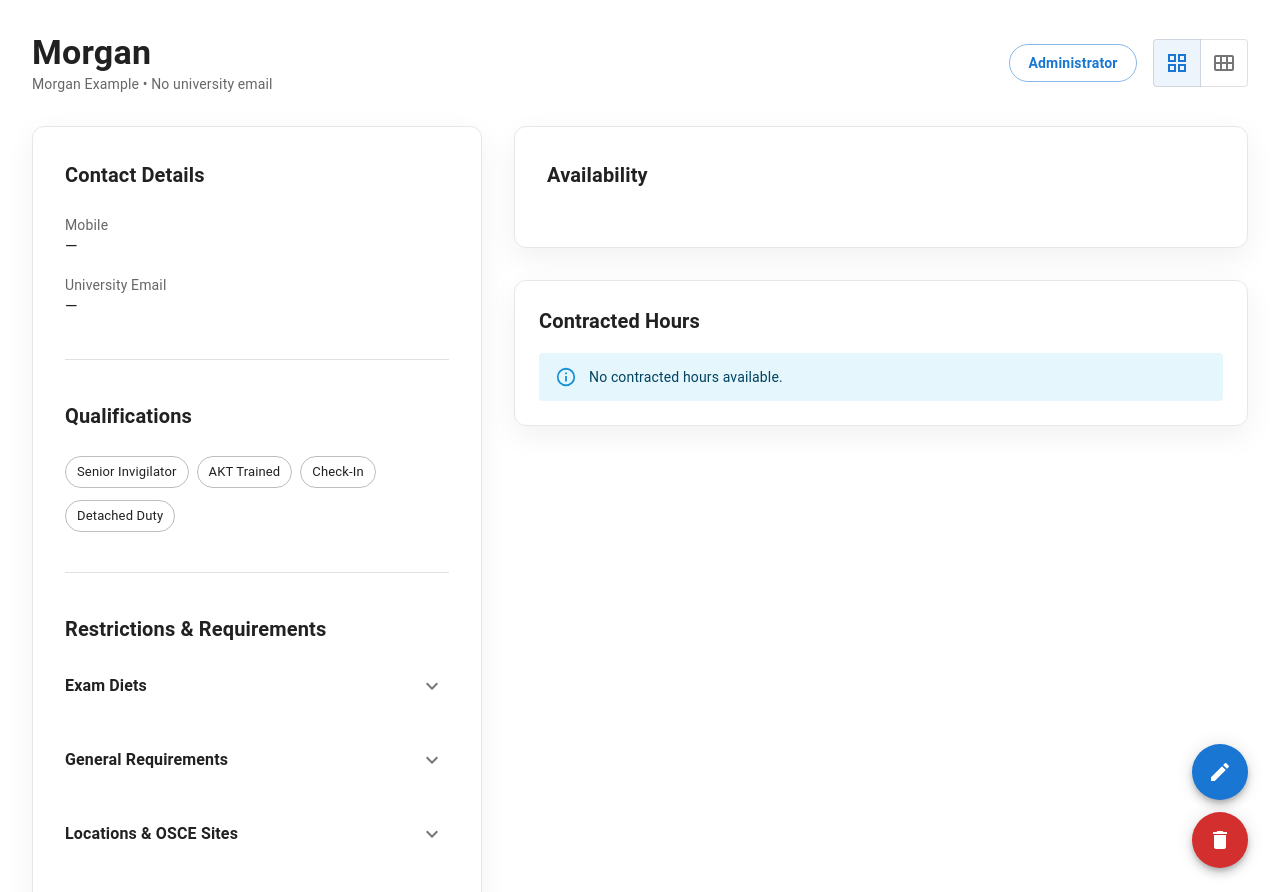
AdminInvigilatorProfile › opens confirmation dialog before promoting
The image size is (1280, 892).
Click the button "Administrator".
click(1073, 63)  # box [1009,44,1137,82]
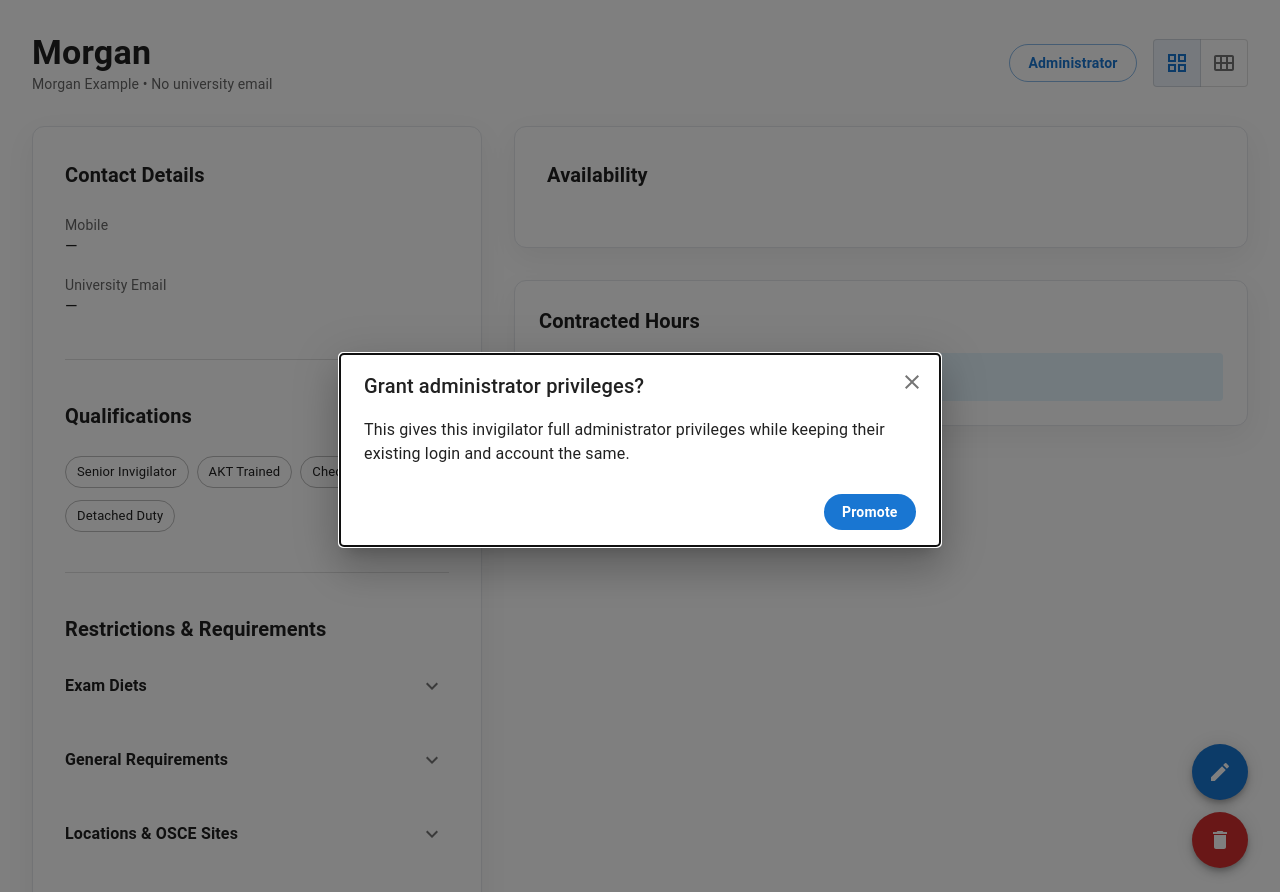
Check: the heading "Grant administrator privileges?" is shown, box [340,354,940,418]
